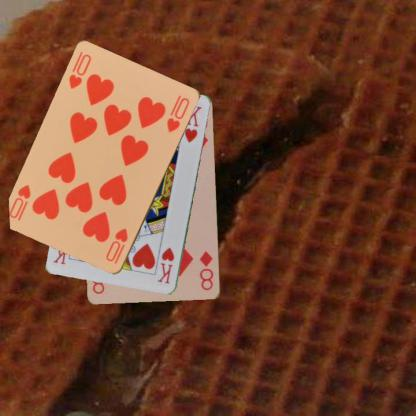10h: (66, 51, 93, 91), (104, 225, 130, 266)
8d: (197, 248, 215, 292)
Kh: (154, 244, 176, 286)
